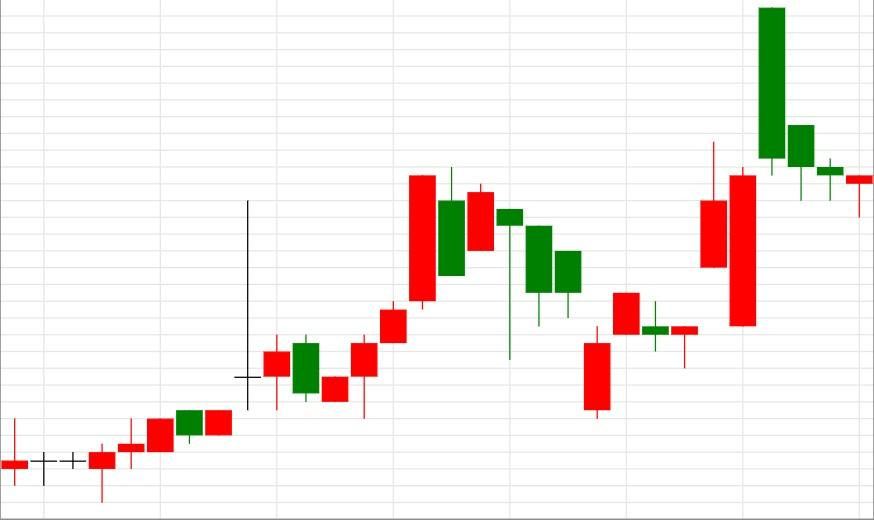three_white_soldiers_rise: (235, 200, 408, 418)
